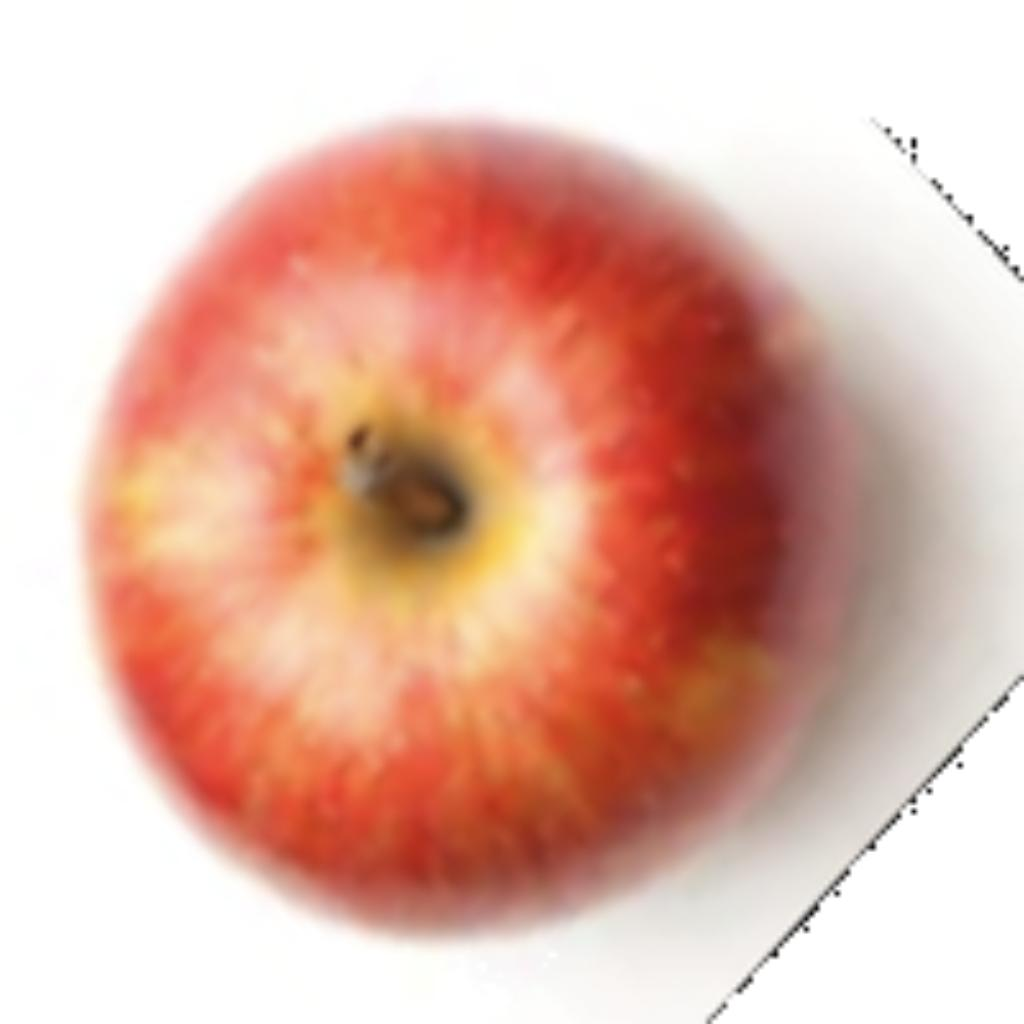apple: (67, 102, 1019, 957)
